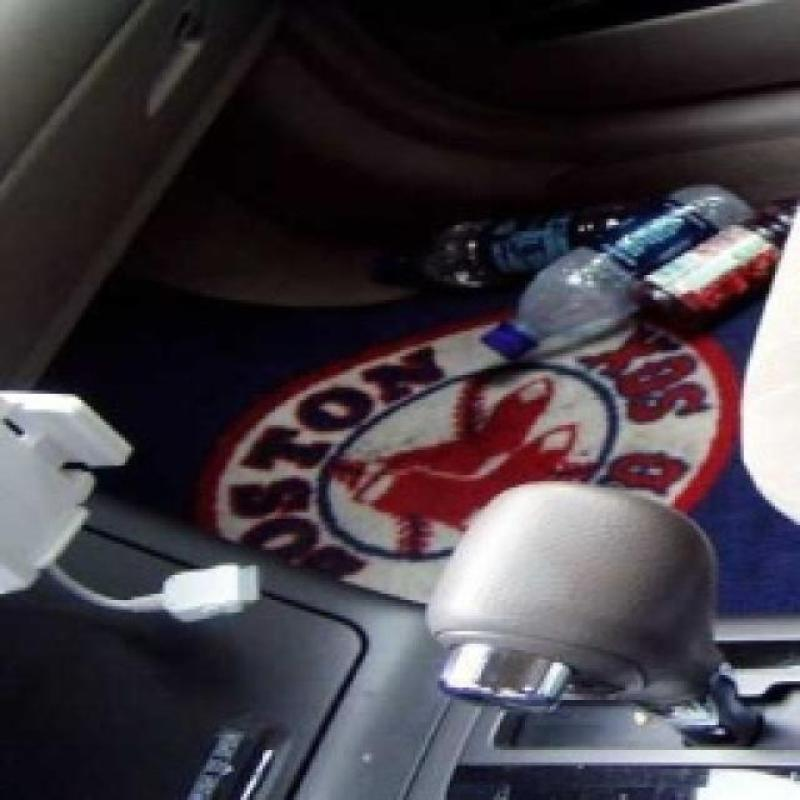botella: (480, 186, 759, 358), (420, 203, 640, 291)
